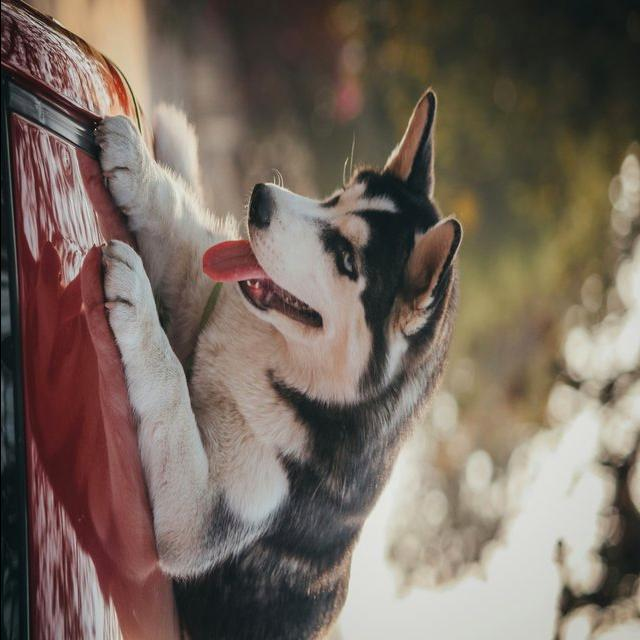husky: (93, 88, 465, 640)
